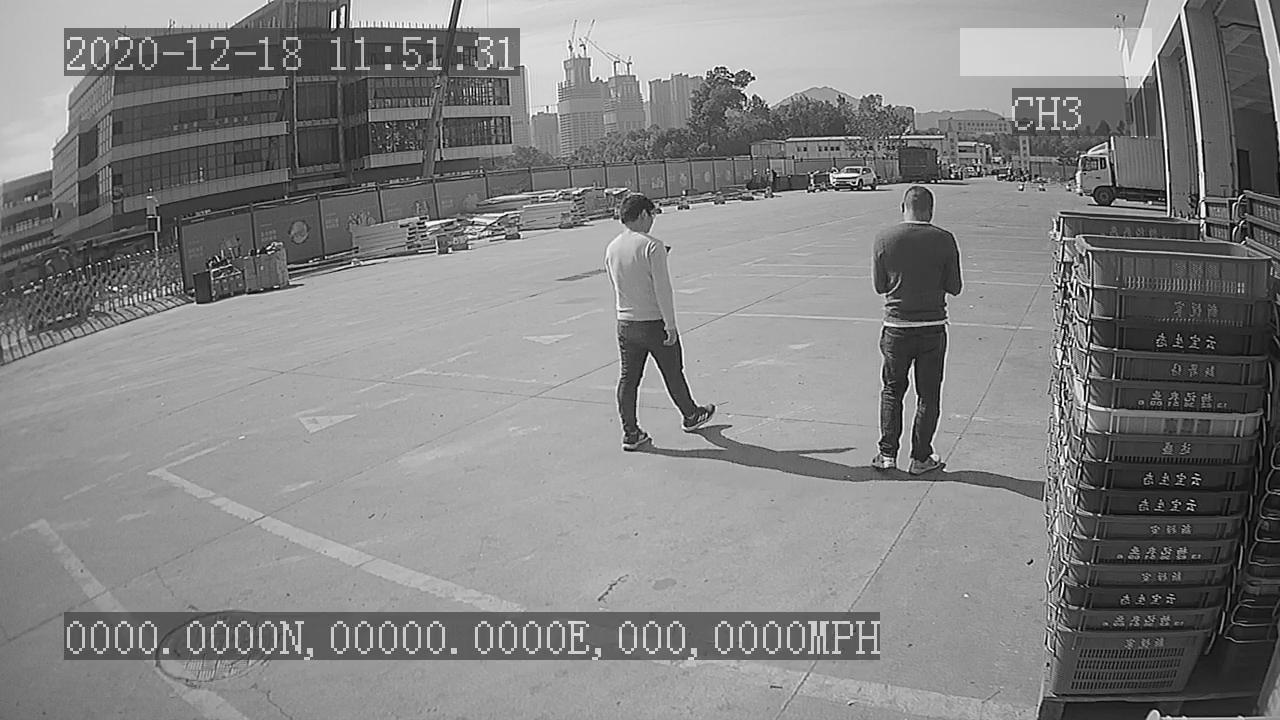person: (599, 188, 722, 458), (865, 181, 967, 477)
